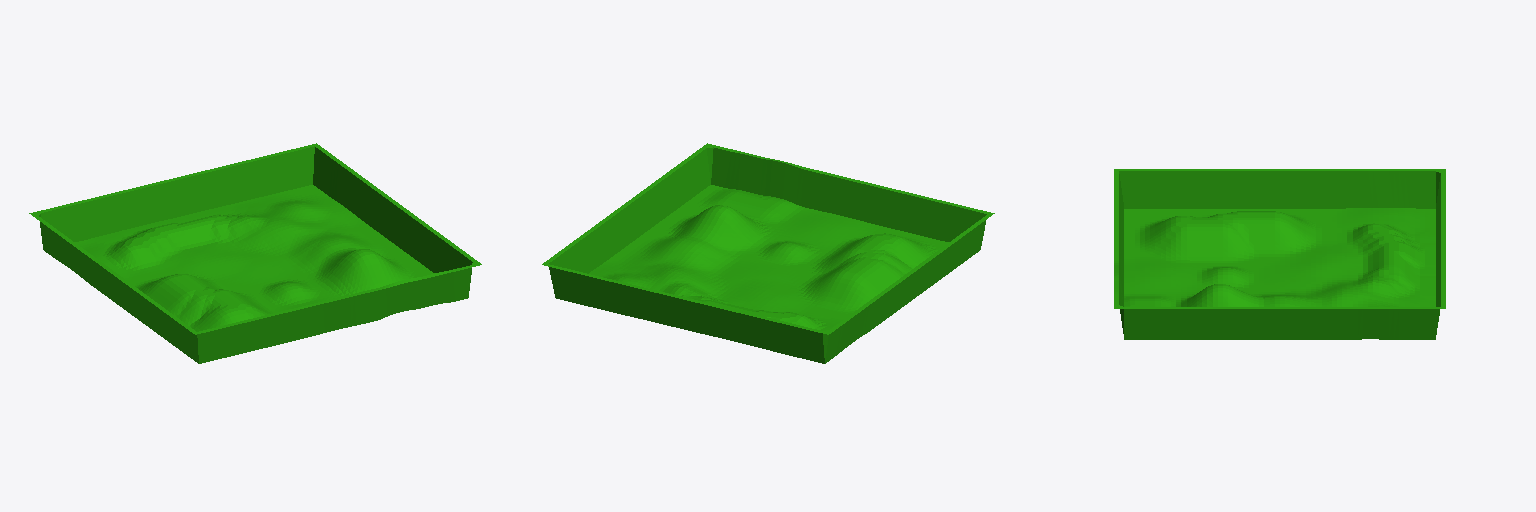
3 views of the same model, side by side, from view 1: azimuth 30°, elevation 25°; view 2: azimuth 150°, elevation 25°; view 3: azimuth 270°, elevation 25° (orthographic).
Visible parts, largest first — view 1: Terrain1_Plane.001; view 2: Terrain1_Plane.001; view 3: Terrain1_Plane.001.
Boxes of the visible parts, x1,y1,x2,y2 form: Terrain1_Plane.001: [29, 143, 481, 363]; Terrain1_Plane.001: [542, 143, 994, 363]; Terrain1_Plane.001: [1114, 169, 1445, 339].
Size of the model in its own units: 200 by 24.41 by 200.